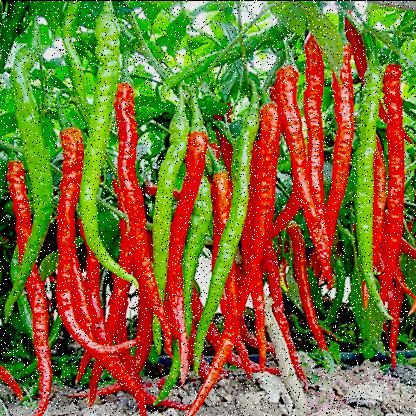chili: (273, 66, 340, 282), (110, 87, 166, 316), (166, 130, 218, 345), (55, 132, 90, 346), (382, 66, 409, 295), (254, 106, 284, 291)
